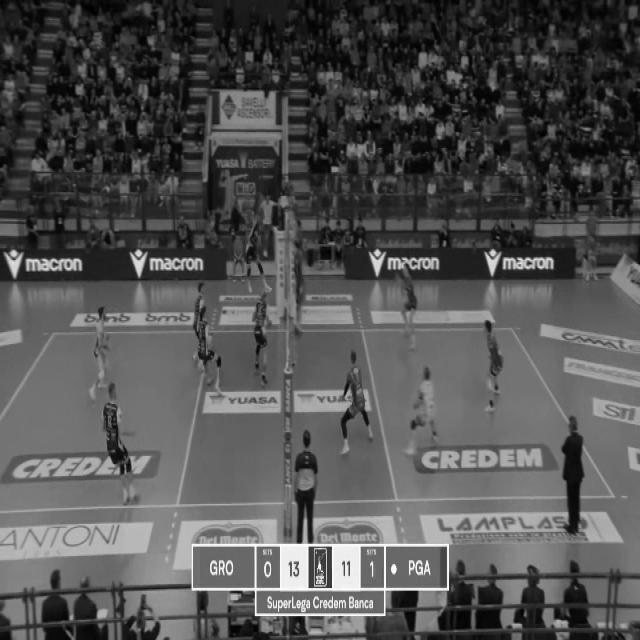volleyball court: (0, 324, 618, 508)
